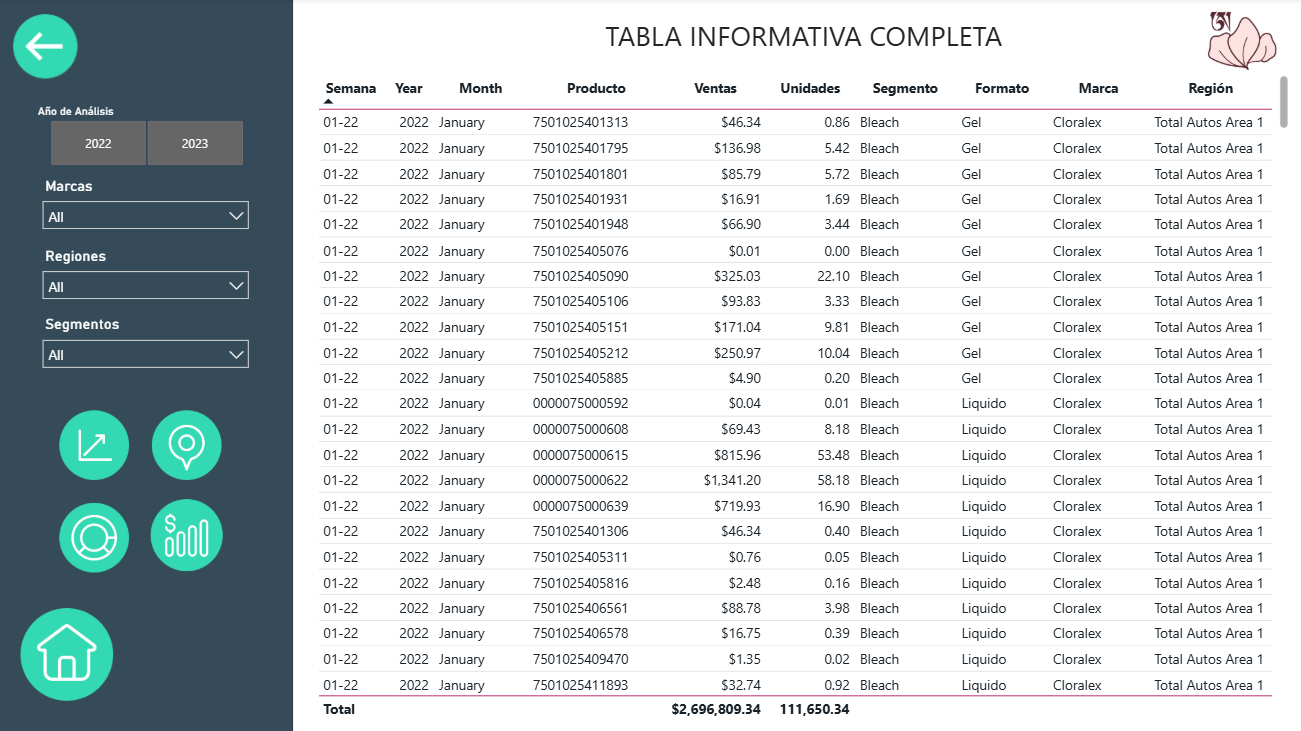

What the dashboard file says about the page in this screenshot:
{"tool":"powerbi","page":{"name":"Tabla Completa","canvas":[1280,720],"ordinal":5},"visuals":[{"type":"tableEx","fields":{"Values":["FACT_SALES.WEEK","DIM_CALENDAR.DATE.Variation.Date Hierarchy.Year","DIM_CALENDAR.DATE.Variation.Date Hierarchy.Month","DIM_PRODUCT.ITEM","DAX.Ventas Totales","DAX.Unidades Totales","DIM_SEGMENT.SEGMENT","DIM_PRODUCT.FORMAT","DIM_PRODUCT.BRAND","FACT_SALES.REGION"]},"box":[308.7,71.4,960.6,640.8],"z":0},{"type":"shape","box":[0,0,289.8,720.2],"z":1000},{"type":"textbox","box":[424.3,13.5,730,53.8],"z":2000},{"type":"actionButton","box":[10,10,75,75],"z":3000},{"type":"image","title":"Resumen Ejecutivo","box":[18.3,588.2,100.3,107.6],"z":4000},{"type":"slicer","fields":{"Values":["DIM_CALENDAR.YEAR"]},"box":[27.4,98.8,237.4,71.4],"z":5000},{"type":"slicer","fields":{"Values":["DIM_PRODUCT.BRAND"]},"box":[34.3,170.2,222.3,68.6],"z":6000},{"type":"slicer","fields":{"Values":["FACT_SALES.REGION"]},"box":[34.3,238.8,222.3,67.2],"z":7000},{"type":"slicer","fields":{"Values":["DIM_SEGMENT.SEGMENT"]},"box":[34.3,306,222.3,65.9],"z":8000},{"type":"image","title":"Región y Formato","box":[148.2,399.3,75.5,75.5],"z":9000},{"type":"image","title":"Segmento y Marca","box":[57.6,489.9,75.5,75.5],"z":10000},{"type":"image","title":"Detalle de Marca","box":[148.2,488.5,75.5,75.5],"z":11000},{"type":"image","title":"Resumen Ejecutivo","box":[57.6,399.3,75.5,75.5],"z":12000},{"type":"image","box":[1165,9.6,104.3,63.1],"z":13000}]}

Visuals, with their boxes on the page's 1280x720 design canvas (x1, y1, x2, y2). These are canvas units, not pixel positions in the 1301x731 screenshot, which may show the page scaled, cropped or inside an application window:
tableEx - FACT_SALES.WEEK x DIM_CALENDAR.DATE.Variation.Date Hierarchy.Year: <region>309, 71, 1269, 712</region>
shape: <region>0, 0, 290, 720</region>
textbox: <region>424, 14, 1154, 67</region>
actionButton: <region>10, 10, 85, 85</region>
"Resumen Ejecutivo" image: <region>18, 588, 119, 696</region>
slicer - DIM_CALENDAR.YEAR: <region>27, 99, 265, 170</region>
slicer - DIM_PRODUCT.BRAND: <region>34, 170, 257, 239</region>
slicer - FACT_SALES.REGION: <region>34, 239, 257, 306</region>
slicer - DIM_SEGMENT.SEGMENT: <region>34, 306, 257, 372</region>
"Región y Formato" image: <region>148, 399, 224, 475</region>
"Segmento y Marca" image: <region>58, 490, 133, 565</region>
"Detalle de Marca" image: <region>148, 488, 224, 564</region>
"Resumen Ejecutivo" image: <region>58, 399, 133, 475</region>
image: <region>1165, 10, 1269, 73</region>
